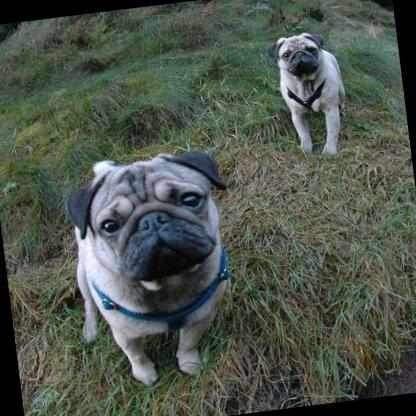pug: (56, 142, 254, 395), (266, 26, 352, 164)
